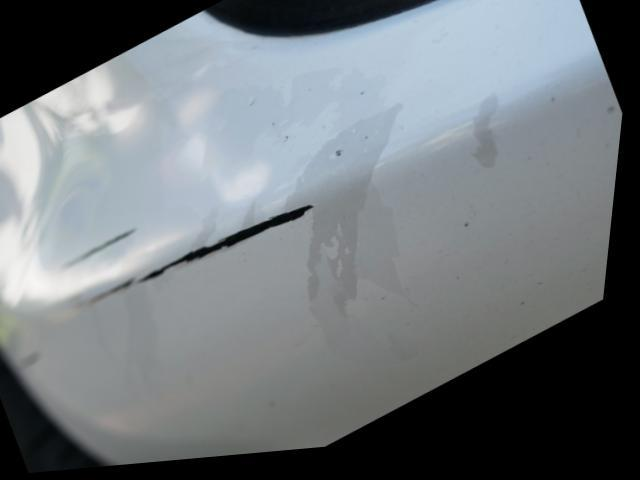scratch: (59, 198, 338, 314)
